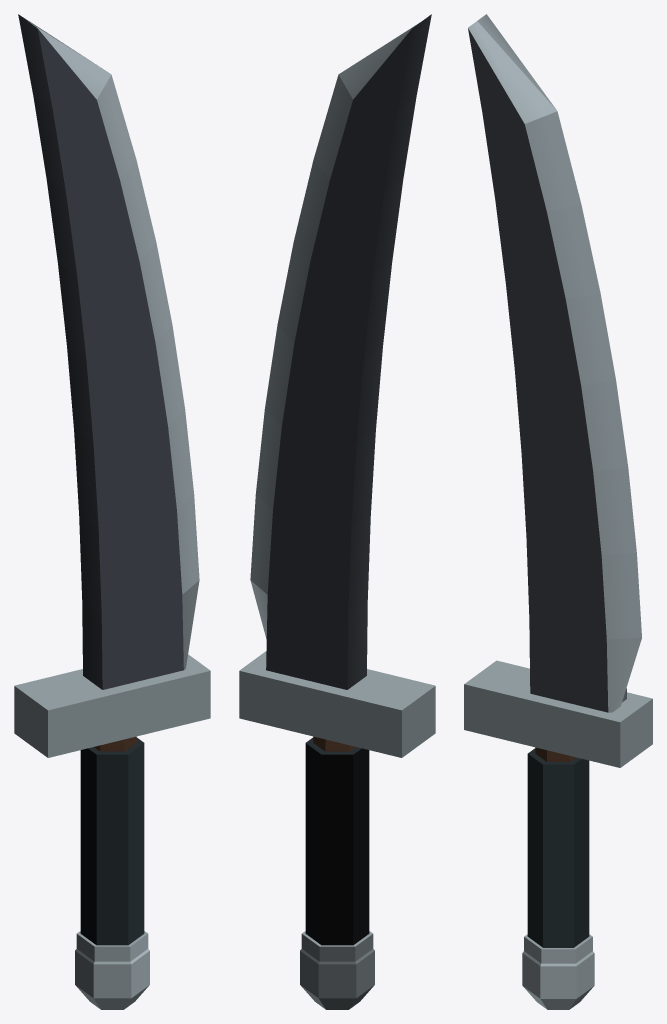
Rendered from rogue_nightblade_1.gltf.
3 renders of one model, left to right at view 1: azimuth 30°, elevation 25°; view 2: azimuth 150°, elevation 25°; view 3: azimuth 330°, elevation 25°, orthographic. The views are drawn at different scales.
Parts seen in each view (by area): view 1: rogue_nightblade_1; view 2: rogue_nightblade_1; view 3: rogue_nightblade_1.
Part boxes in pixels (bbox=[...]): rogue_nightblade_1: bbox=[14, 14, 210, 1009]; rogue_nightblade_1: bbox=[239, 14, 435, 1009]; rogue_nightblade_1: bbox=[464, 14, 652, 1009].
Bounding box in the file's own units: 0.2638 × 1.47 × 0.1.
1 material, 1 textured.
